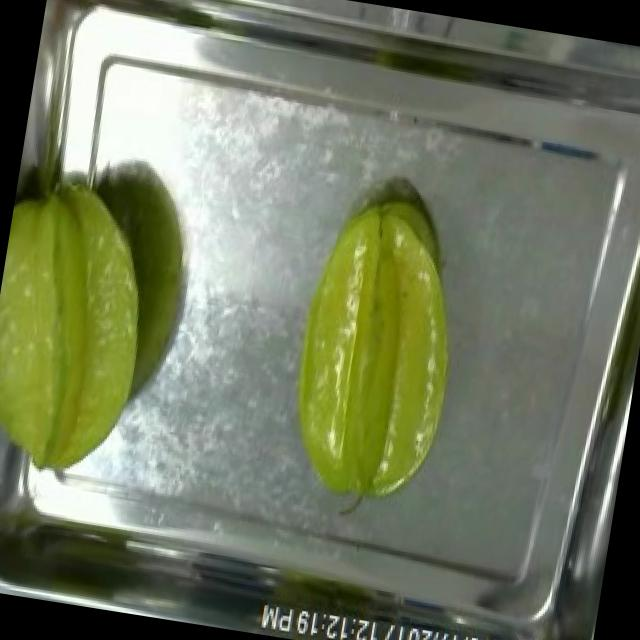fruit: (262, 170, 495, 526), (0, 167, 178, 500)
